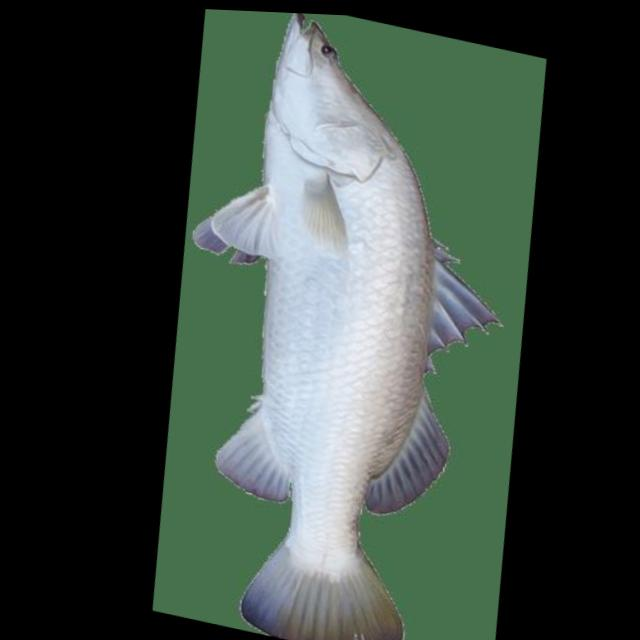Seabass: (106, 5, 579, 640)
